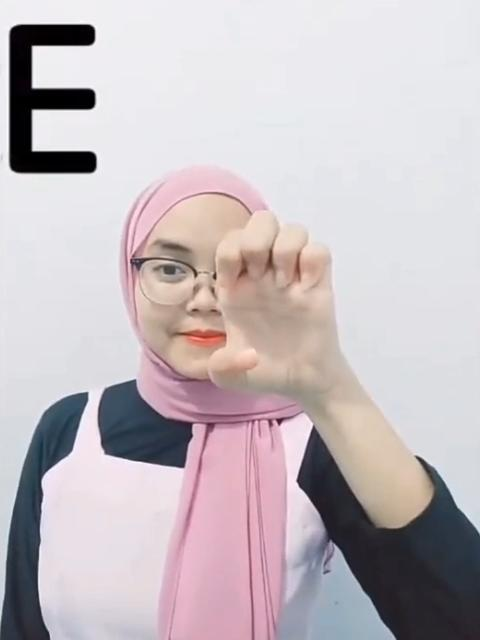E: (203, 208, 350, 406)
